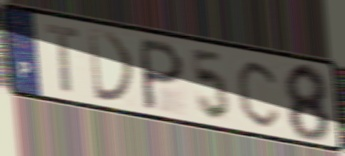5: (188, 46, 231, 122)
8: (282, 61, 335, 145)
C: (235, 57, 283, 131)
D: (86, 25, 139, 106)
P: (140, 35, 186, 114)
T: (44, 23, 82, 97)
